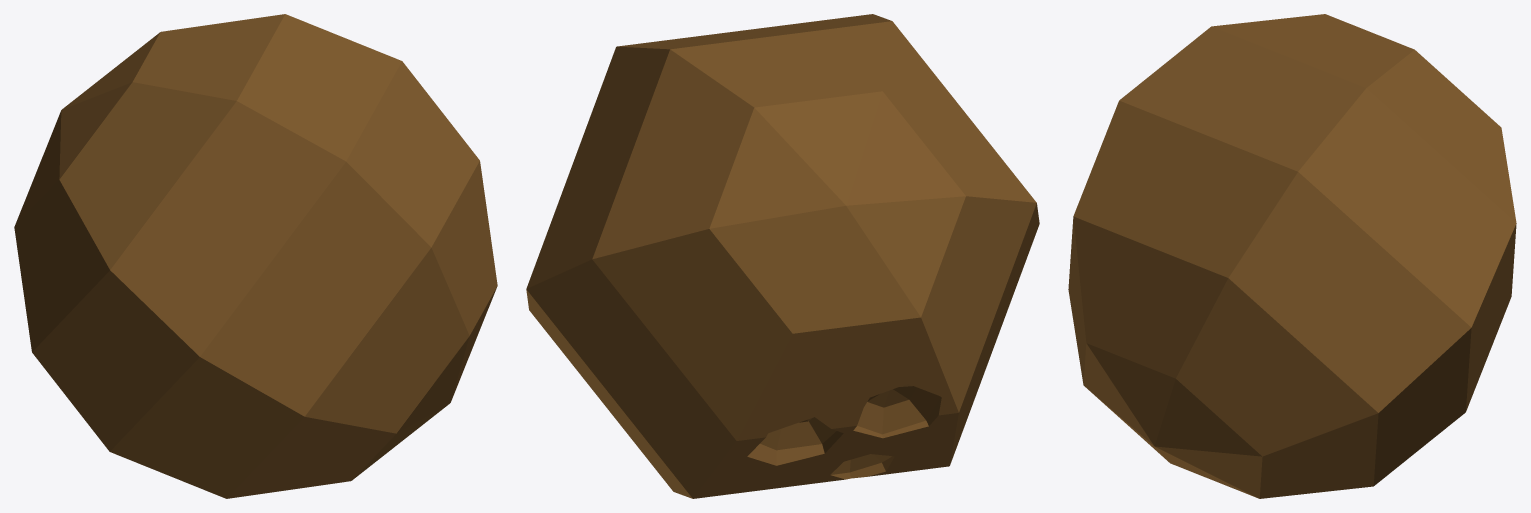
File: SM_Coconut.fbx
The picture shows the model from 3 angles, left to right: view 1: azimuth 30°, elevation 25°; view 2: azimuth 150°, elevation 25°; view 3: azimuth 270°, elevation 25°; orthographic projection. The views are drawn at different scales.
Visible parts, largest first — view 1: SM_Coconut; view 2: SM_Coconut; view 3: SM_Coconut.
Part boxes in pixels (x1,y1,x2,y2): SM_Coconut: (14, 14, 497, 498); SM_Coconut: (526, 14, 1039, 498); SM_Coconut: (1068, 14, 1516, 498).
Bounding box in the file's own units: 90.85 × 90.11 × 91.11.
